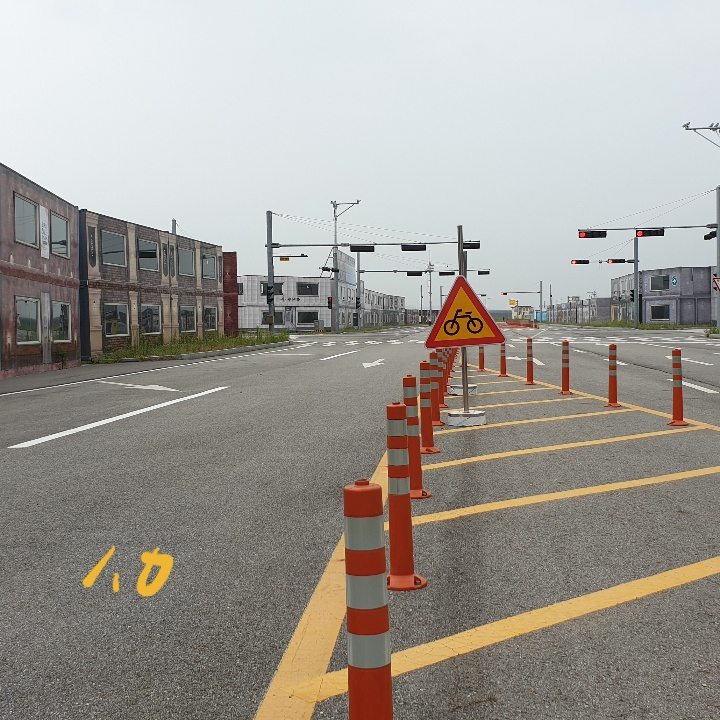bicycle: (424, 276, 506, 347)
